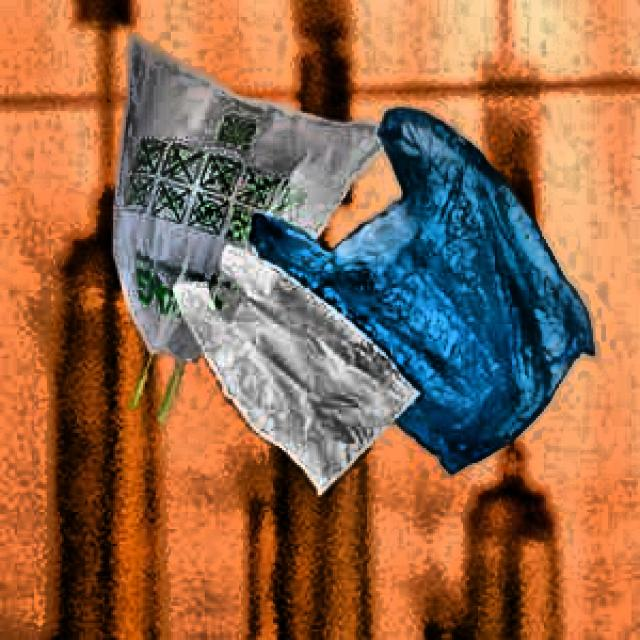Plastic: (74, 34, 400, 456), (262, 99, 603, 474), (170, 251, 419, 497)
